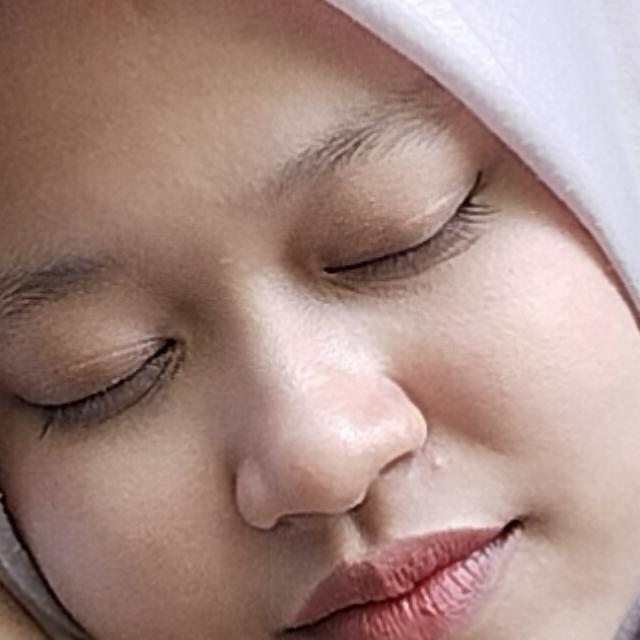tidur: (0, 308, 516, 640)
